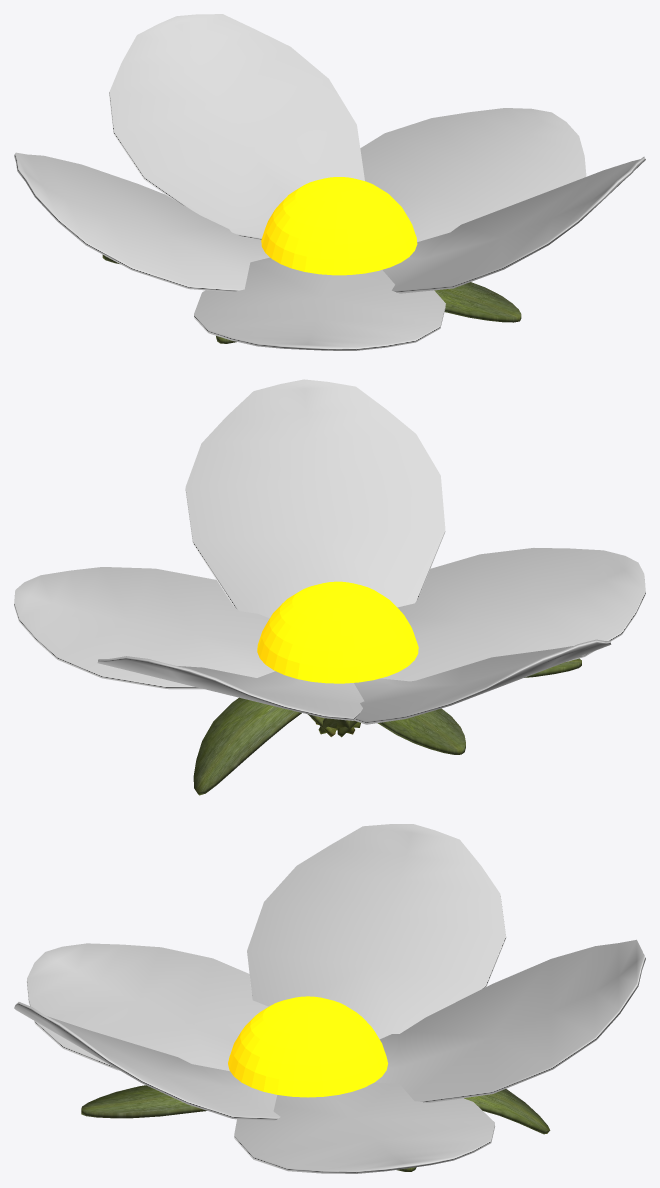
3 renders of one model, top to bottom at view 1: azimuth 30°, elevation 25°; view 2: azimuth 150°, elevation 25°; view 3: azimuth 270°, elevation 25°, orthographic. The views are drawn at different scales.
Visible parts, largest first — view 1: calyx1_001.009, calyx1_001.011, calyx1_001.010, calyx1_001.012, Sphere.001, calyx1_001.008, calyx1.001; view 2: calyx1_001.008, calyx1_001.012, calyx1_001.011, Sphere.001, calyx1_001.010, calyx1_001.009, calyx3, calyx1_001.001; view 3: calyx1_001.010, calyx1_001.009, calyx1_001.012, calyx1_001.011, Sphere.001, calyx1_001.008, calyx1.001, calyx3.
Part boxes in pixels (x1=…): calyx1_001.009: x1=109, y1=14, x2=364, y2=240; calyx1_001.011: x1=360, y1=108, x2=586, y2=242; calyx1_001.010: x1=14, y1=152, x2=269, y2=292; calyx1_001.012: x1=194, y1=257, x2=445, y2=350; Sphere.001: x1=261, y1=177, x2=417, y2=275; calyx1_001.008: x1=382, y1=156, x2=645, y2=293; calyx1.001: x1=434, y1=282, x2=521, y2=322; calyx1_001.008: x1=185, y1=379, x2=445, y2=618; calyx1_001.012: x1=380, y1=548, x2=645, y2=681; calyx1_001.011: x1=14, y1=567, x2=275, y2=689; Sphere.001: x1=257, y1=581, x2=418, y2=683; calyx1_001.010: x1=354, y1=639, x2=611, y2=724; calyx1_001.009: x1=97, y1=656, x2=364, y2=720; calyx3: x1=193, y1=697, x2=354, y2=795; calyx1_001.001: x1=318, y1=708, x2=465, y2=754; calyx1_001.010: x1=247, y1=824, x2=506, y2=1039; calyx1_001.009: x1=375, y1=939, x2=645, y2=1102; calyx1_001.012: x1=26, y1=943, x2=268, y2=1070; calyx1_001.011: x1=234, y1=1082, x2=495, y2=1173; Sphere.001: x1=228, y1=996, x2=388, y2=1097; calyx1_001.008: x1=14, y1=1002, x2=280, y2=1120; calyx1.001: x1=81, y1=1085, x2=206, y2=1118; calyx3: x1=464, y1=1089, x2=550, y2=1134.
Size of the model in its own units: 0.118 by 0.116 by 0.0421.
Materials: 2 (1 with a texture image).
